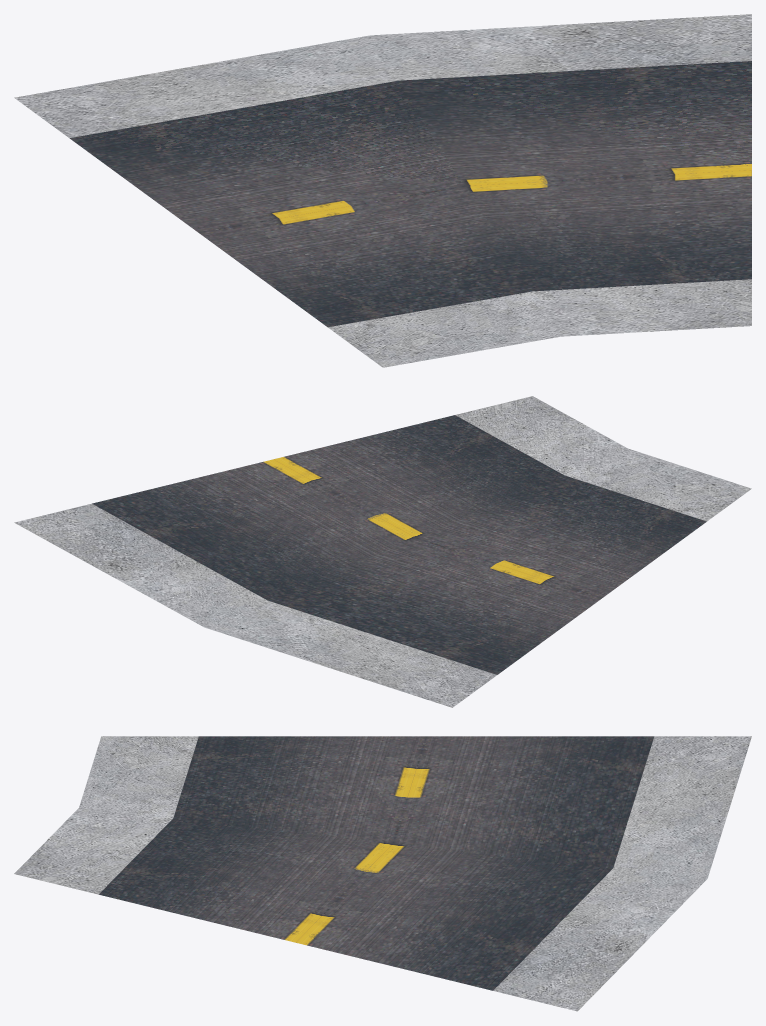
File: track_corner_C.fbx
3 views of the same model, one above another, from view 1: azimuth 30°, elevation 25°; view 2: azimuth 150°, elevation 25°; view 3: azimuth 270°, elevation 25° (orthographic). The views are drawn at different scales.
Parts seen in each view (by area): view 1: track_curve_C; view 2: track_curve_C; view 3: track_curve_C.
Boxes of the visible parts, x1,y1,x2,y2 form: track_curve_C: (14, 14, 751, 367); track_curve_C: (14, 396, 751, 707); track_curve_C: (14, 736, 751, 1011).
Size of the model in its own units: 10 by 0 by 11.34.
2 materials, 2 textured.
